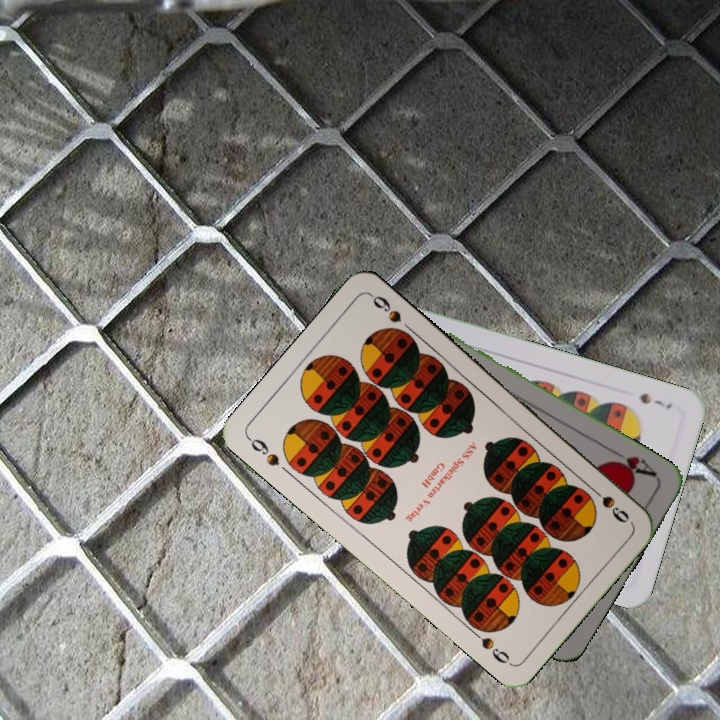HA: (604, 444, 660, 480)
S7: (636, 389, 675, 412)
S9: (585, 481, 632, 526), (243, 433, 282, 469)
